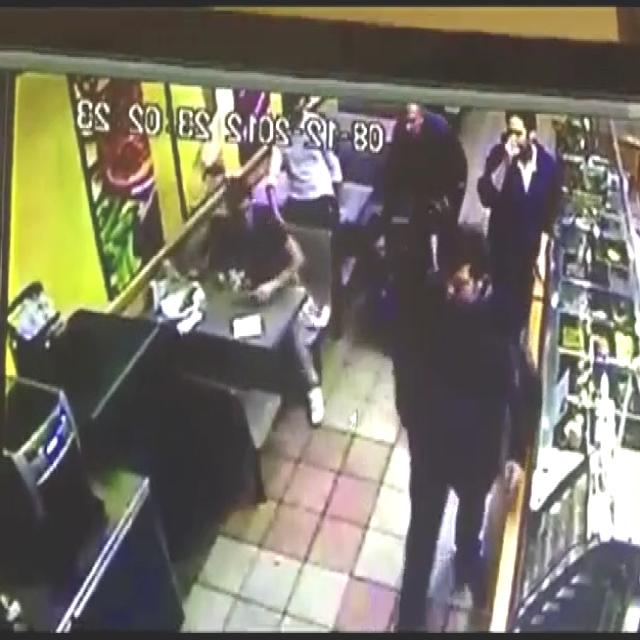fight: (368, 216, 518, 502)
